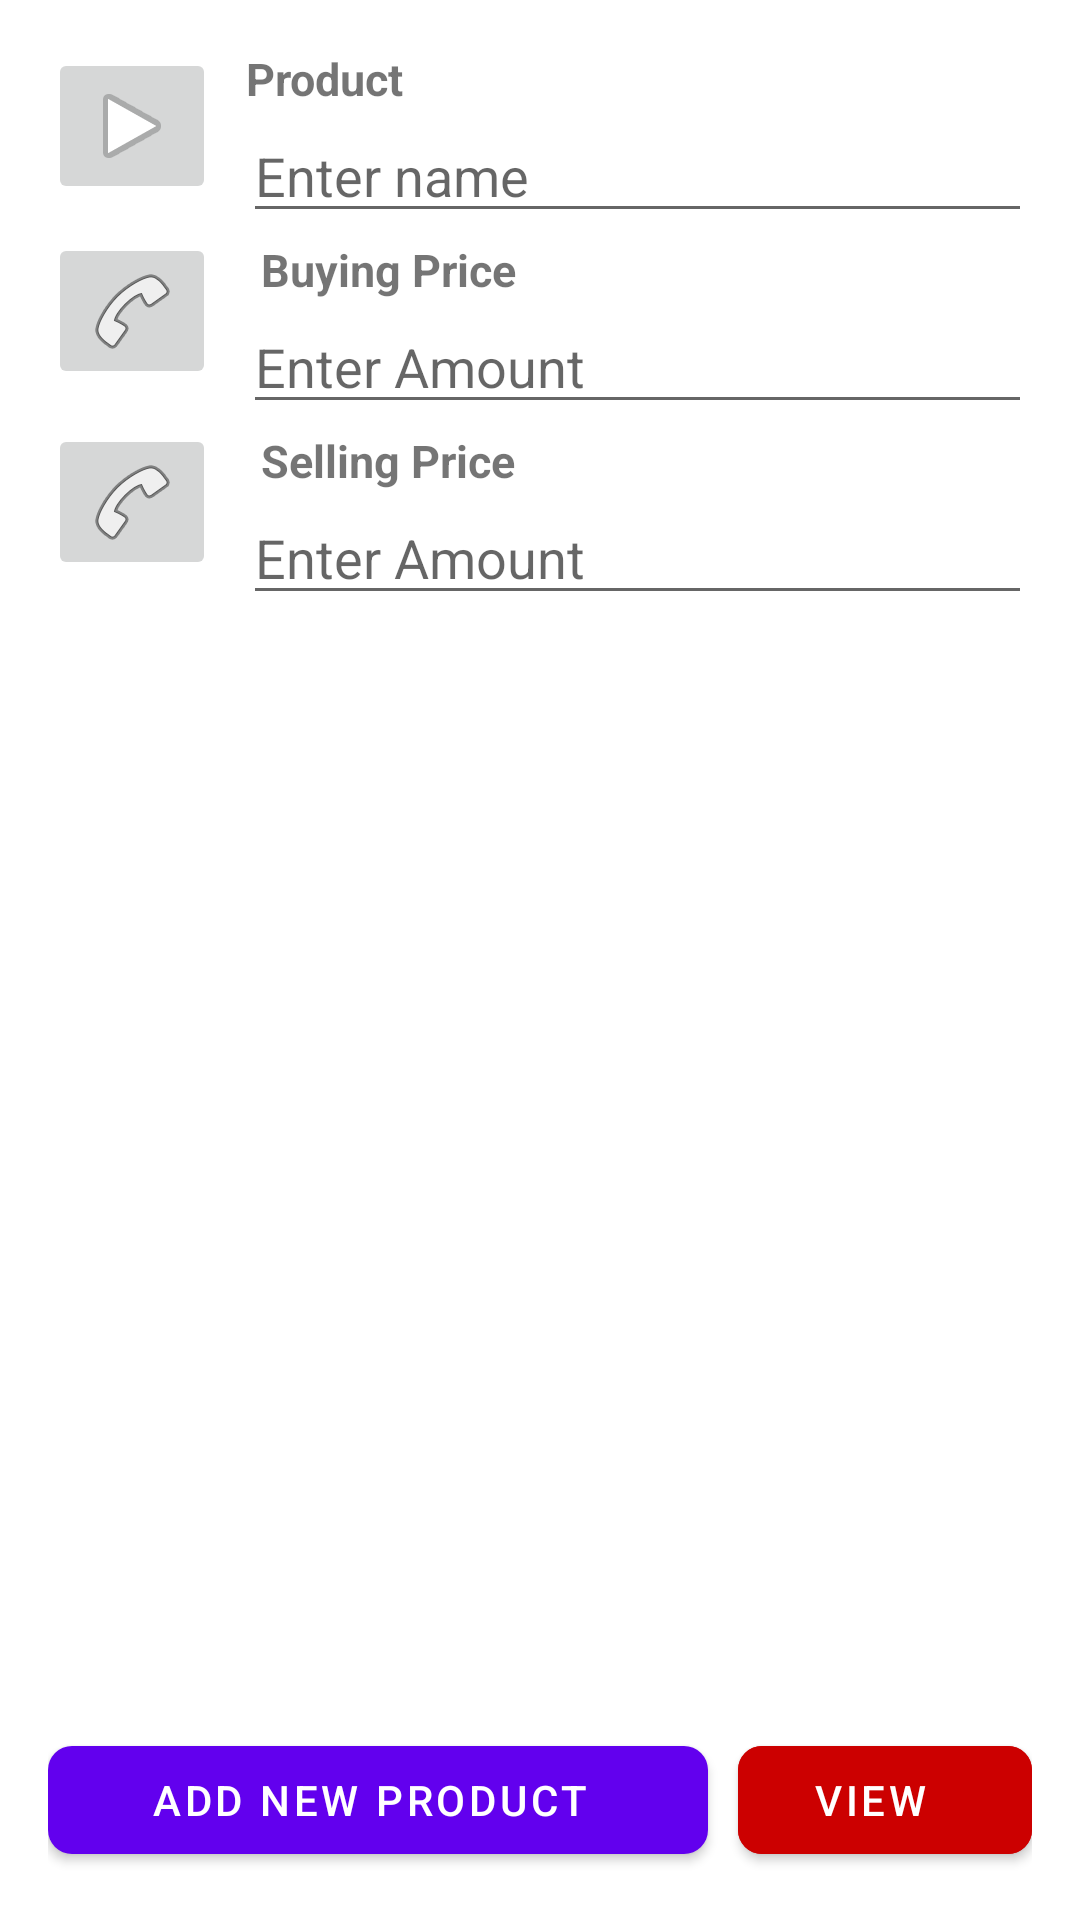

Screen size 1080×1920. Icon name, then its center in pixels as (x=x, y=y):
call: (x=132, y=311), (x=132, y=502)
play: (x=132, y=126)
